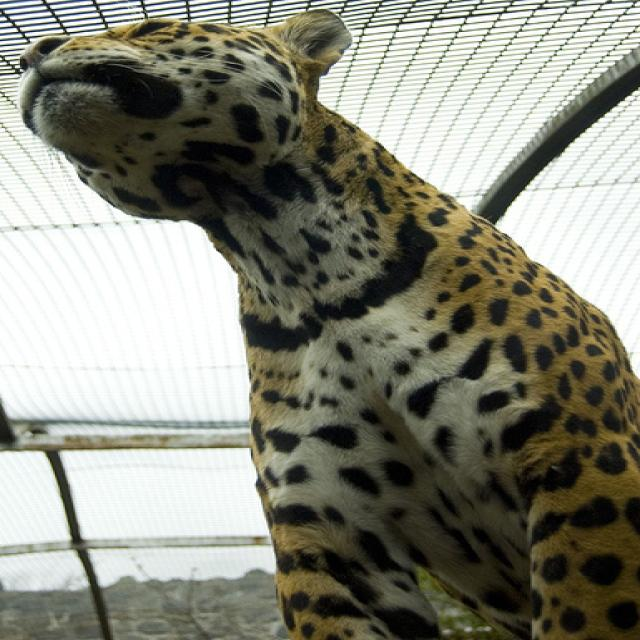Leopard: (12, 8, 635, 636)
